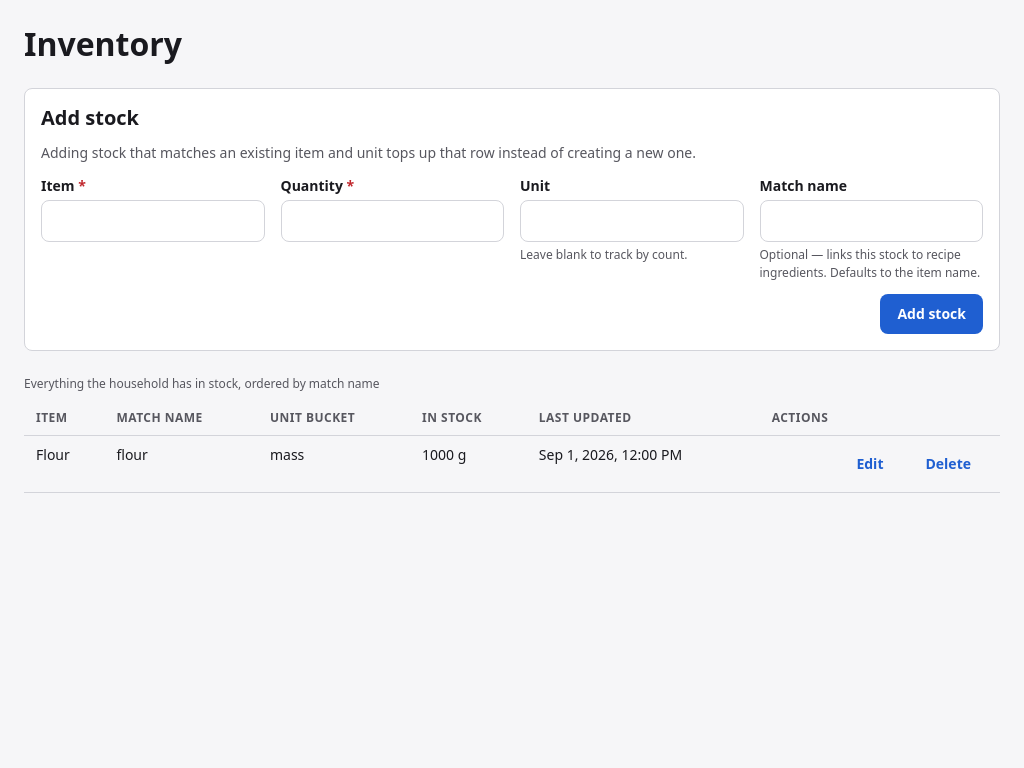
Scenario: Inventory screen › deletes a row behind a confirmation dialog
The width and height of the screenshot is (1024, 768).
Click the button with aria-label "Delete Flour" at (948, 464), box x1=908 y1=444 x2=988 y2=484
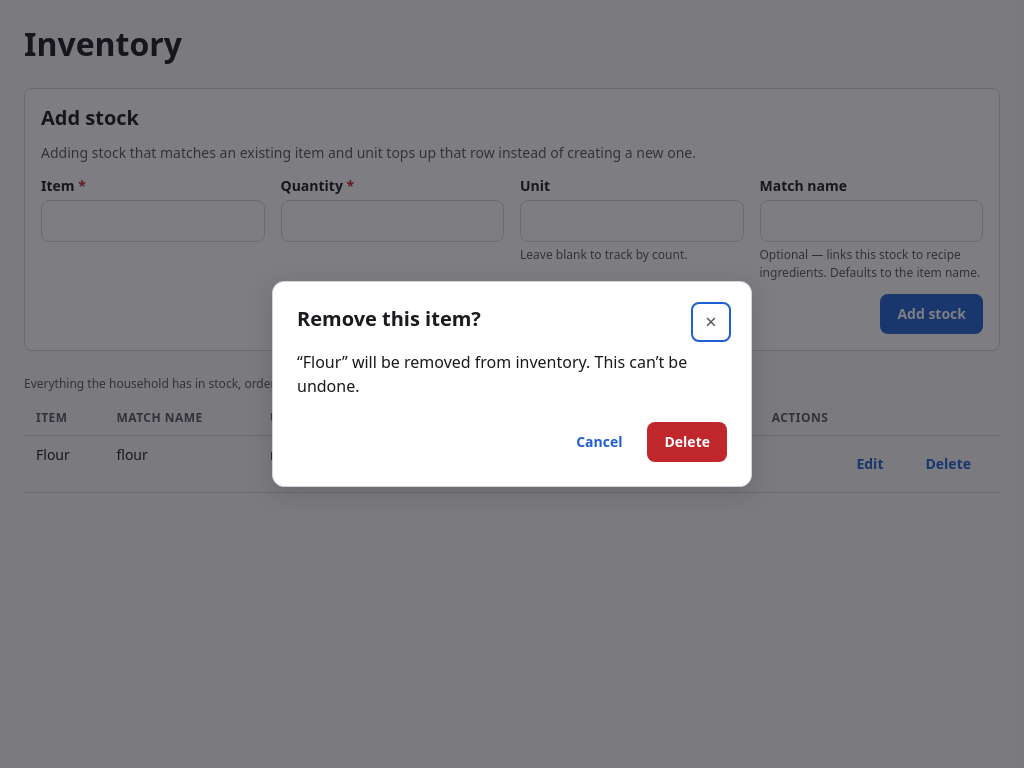
Expected: the dialog shows "Remove this item?", x1=297 y1=305 x2=481 y2=332
Click the button "Delete" at (687, 442), box x1=648 y1=422 x2=727 y2=462
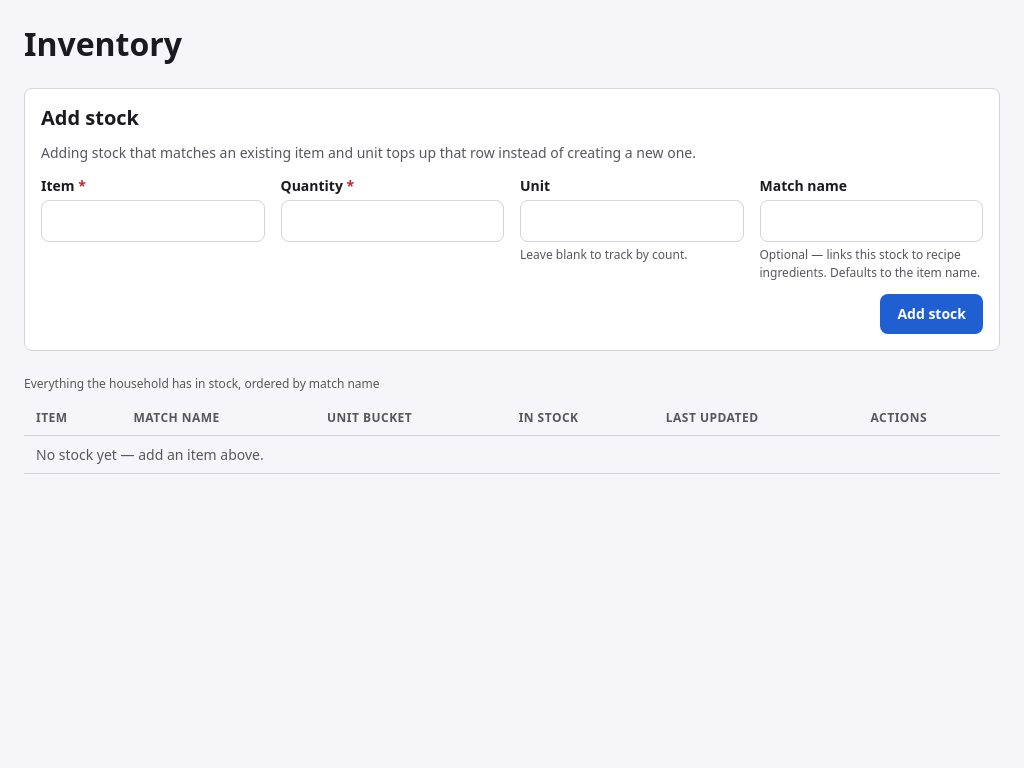
Expected: the text "Flour" is gone
